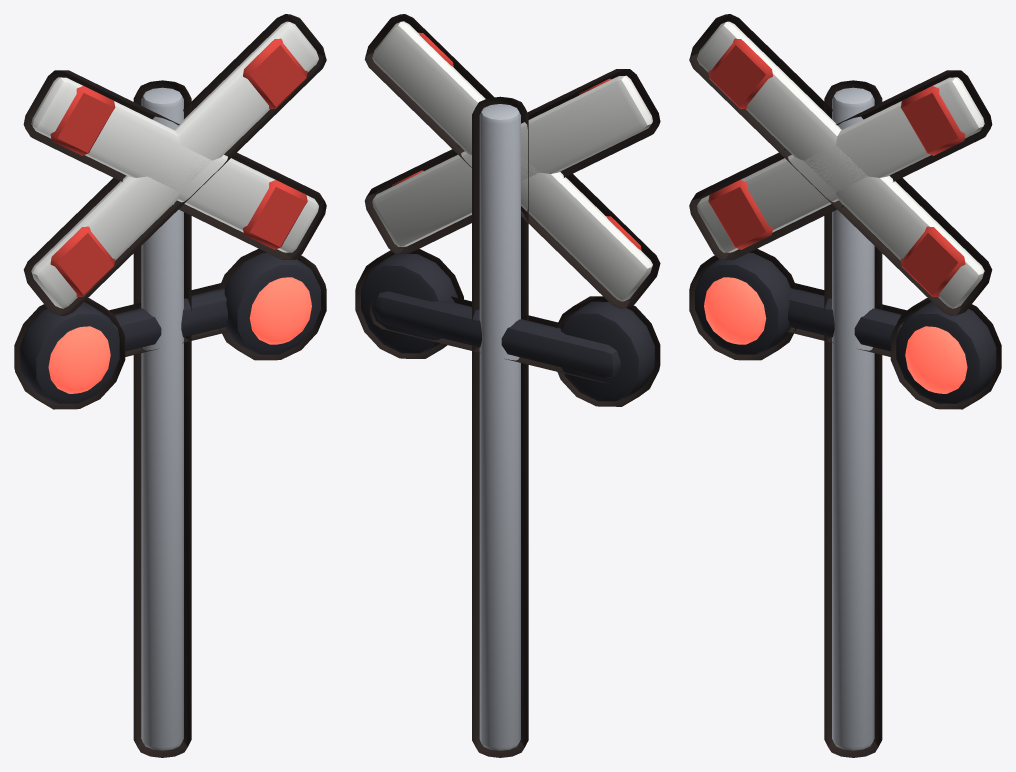
The model's file is CrossingSign.fbx.
The picture shows the model from 3 angles, left to right: view 1: azimuth 30°, elevation 25°; view 2: azimuth 150°, elevation 25°; view 3: azimuth 330°, elevation 25°; orthographic projection. The views are drawn at different scales.
Parts seen in each view (by area): view 1: PR_CrossingSign_White, PR_CrossingSign_MetalLight, PR_CrossingSign_Outline, PR_CrossingSign_Black, PR_CrossingSign_Red, PR_CrossingSign_CrossRed; view 2: PR_CrossingSign_White, PR_CrossingSign_MetalLight, PR_CrossingSign_Outline, PR_CrossingSign_Black, PR_CrossingSign_Red; view 3: PR_CrossingSign_White, PR_CrossingSign_MetalLight, PR_CrossingSign_Outline, PR_CrossingSign_Black, PR_CrossingSign_Red, PR_CrossingSign_CrossRed.
Boxes of the visible parts, <box> form: PR_CrossingSign_White: <box>31,21,318,308</box>; PR_CrossingSign_MetalLight: <box>141,87,183,750</box>; PR_CrossingSign_Outline: <box>14,14,326,757</box>; PR_CrossingSign_Black: <box>19,252,320,403</box>; PR_CrossingSign_Red: <box>50,38,307,296</box>; PR_CrossingSign_CrossRed: <box>48,277,311,393</box>; PR_CrossingSign_White: <box>372,21,652,301</box>; PR_CrossingSign_MetalLight: <box>479,104,520,750</box>; PR_CrossingSign_Outline: <box>355,14,660,757</box>; PR_CrossingSign_Black: <box>361,254,654,401</box>; PR_CrossingSign_Red: <box>391,32,641,250</box>; PR_CrossingSign_White: <box>697,21,984,308</box>; PR_CrossingSign_MetalLight: <box>832,87,874,750</box>; PR_CrossingSign_Outline: <box>689,14,1001,757</box>; PR_CrossingSign_Black: <box>695,252,996,403</box>; PR_CrossingSign_Red: <box>708,38,965,296</box>; PR_CrossingSign_CrossRed: <box>704,277,967,393</box>.
Size of the model in its own units: 1.78 by 4.08 by 0.4142.
